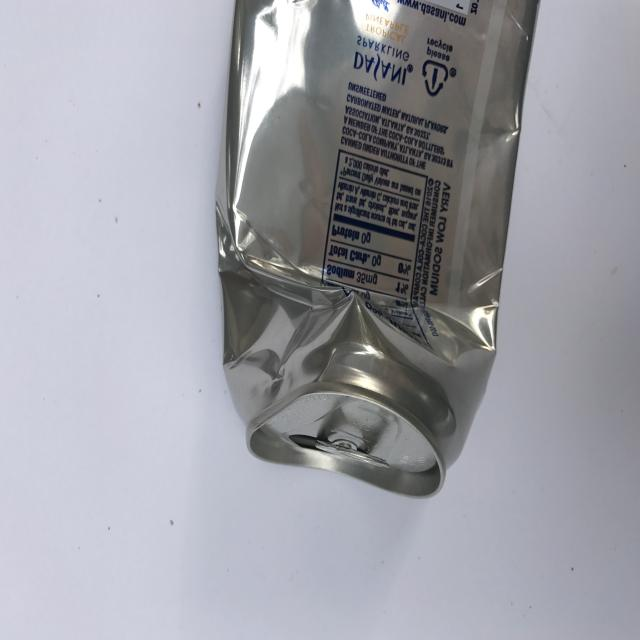metal: (215, 0, 543, 498)
